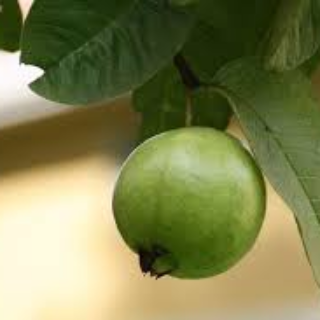oi: (104, 121, 269, 282)
